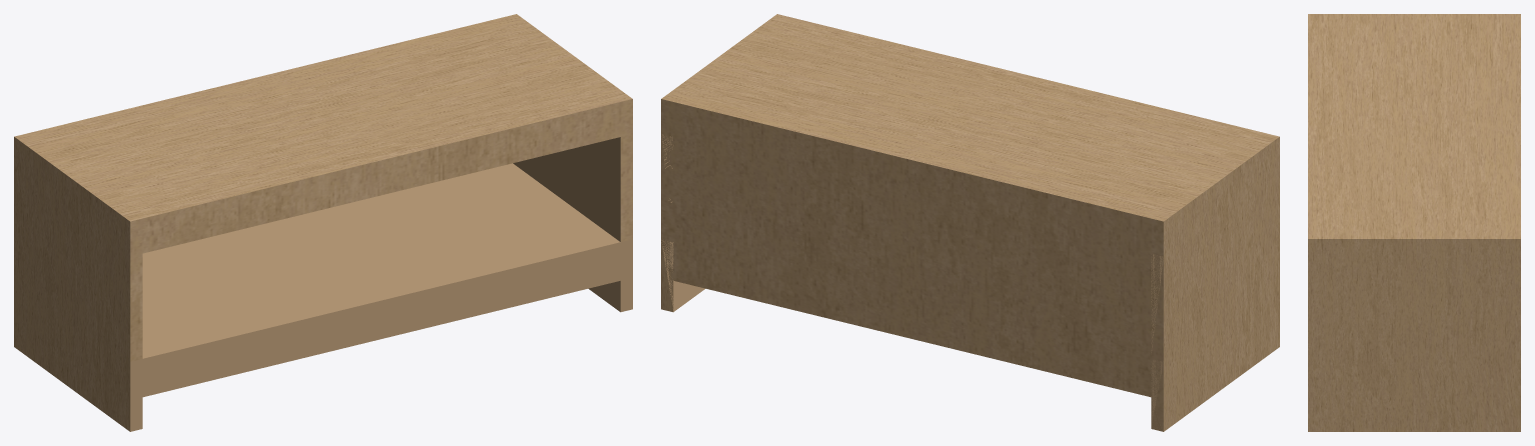
Rendered from table_basse.obj.
3 views of the same model, side by side, from view 1: azimuth 30°, elevation 25°; view 2: azimuth 150°, elevation 25°; view 3: azimuth 270°, elevation 25° (orthographic). The views are drawn at different scales.
Visible parts, largest first — view 1: Cube; view 2: Cube; view 3: Cube.
Part boxes in pixels (box(x1,y1,x2,y2)): Cube: box(14, 14, 632, 431); Cube: box(661, 14, 1279, 431); Cube: box(1308, 14, 1520, 431).
Bounding box in the file's own units: 7.5 × 3 × 3.
